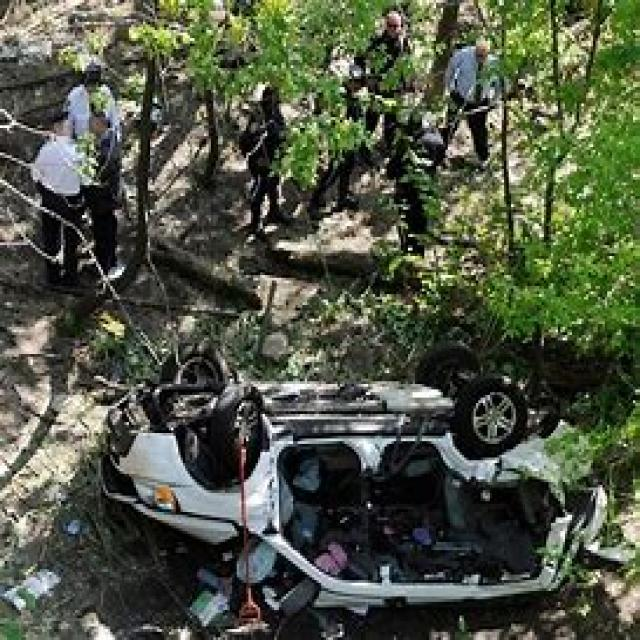Accident: (83, 209, 640, 603)
